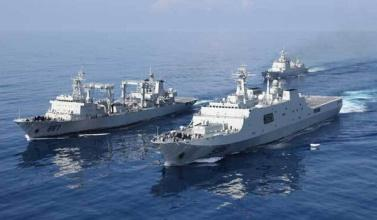warship: (161, 66, 349, 164), (13, 70, 201, 139), (256, 46, 311, 79)
